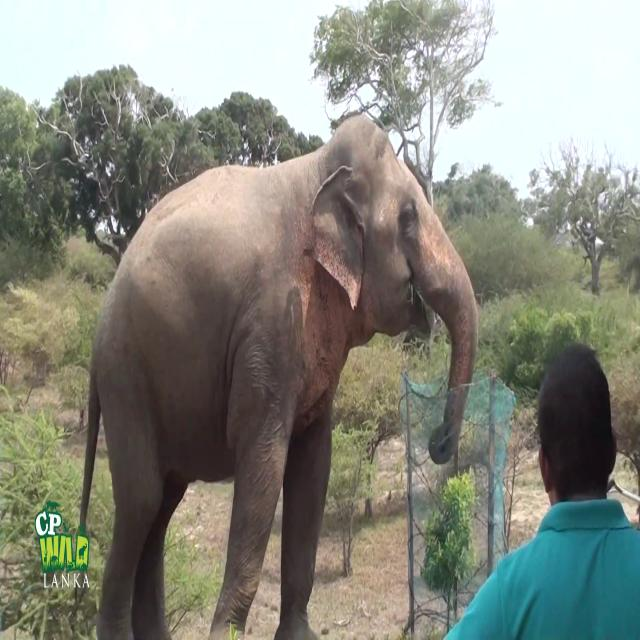Elephant: (78, 111, 479, 639)
person: (442, 342, 640, 640)
